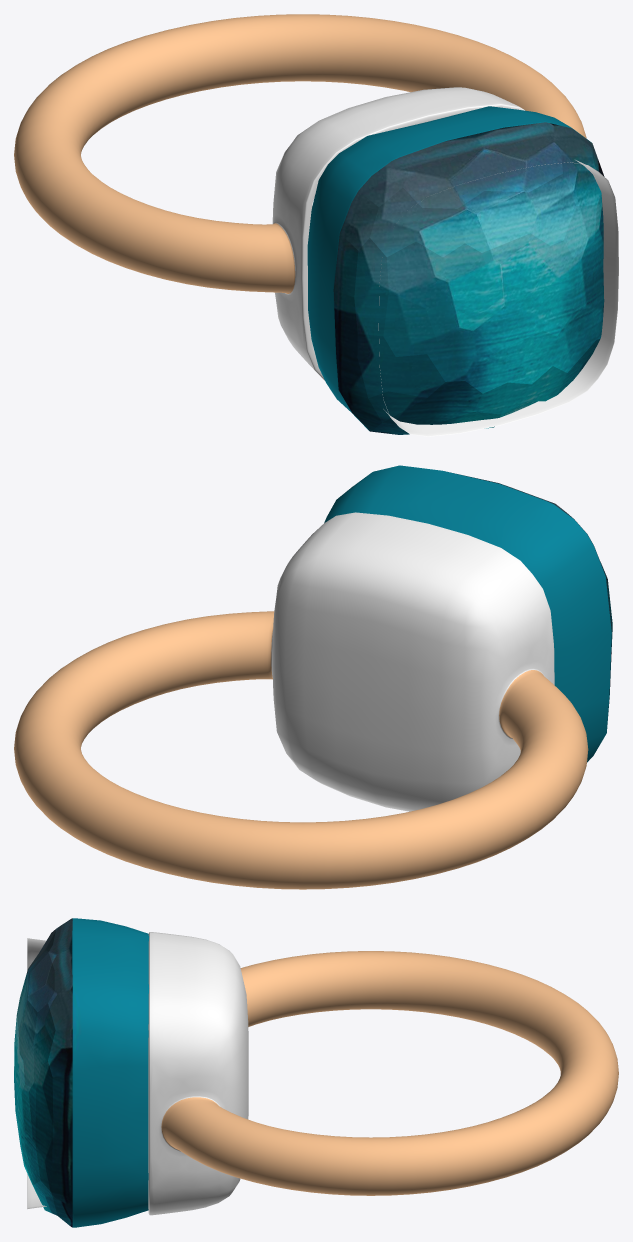
The model's file is MaxiLondonBlue.glb.
3 views of the same model, one above another, from view 1: azimuth 30°, elevation 25°; view 2: azimuth 150°, elevation 25°; view 3: azimuth 270°, elevation 25° (orthographic). The views are drawn at different scales.
Visible parts, largest first — view 1: Gem, Metal, Las; view 2: Metal, Gem; view 3: Metal, Gem, Las.
Boxes of the visible parts, x1,y1,x2,y2 form: Gem: (307, 106, 604, 434); Metal: (14, 14, 586, 380); Las: (378, 160, 618, 436); Metal: (14, 512, 588, 889); Gem: (324, 465, 612, 762); Metal: (148, 932, 618, 1215); Gem: (14, 918, 149, 1227); Las: (27, 938, 46, 1208).
Size of the model in its own units: 0.0412 by 0.0234 by 0.0498.
Materials: 4 (1 with a texture image).
